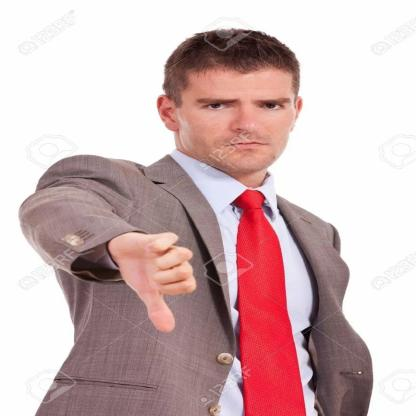Thumbs-Down: (114, 231, 198, 334)
